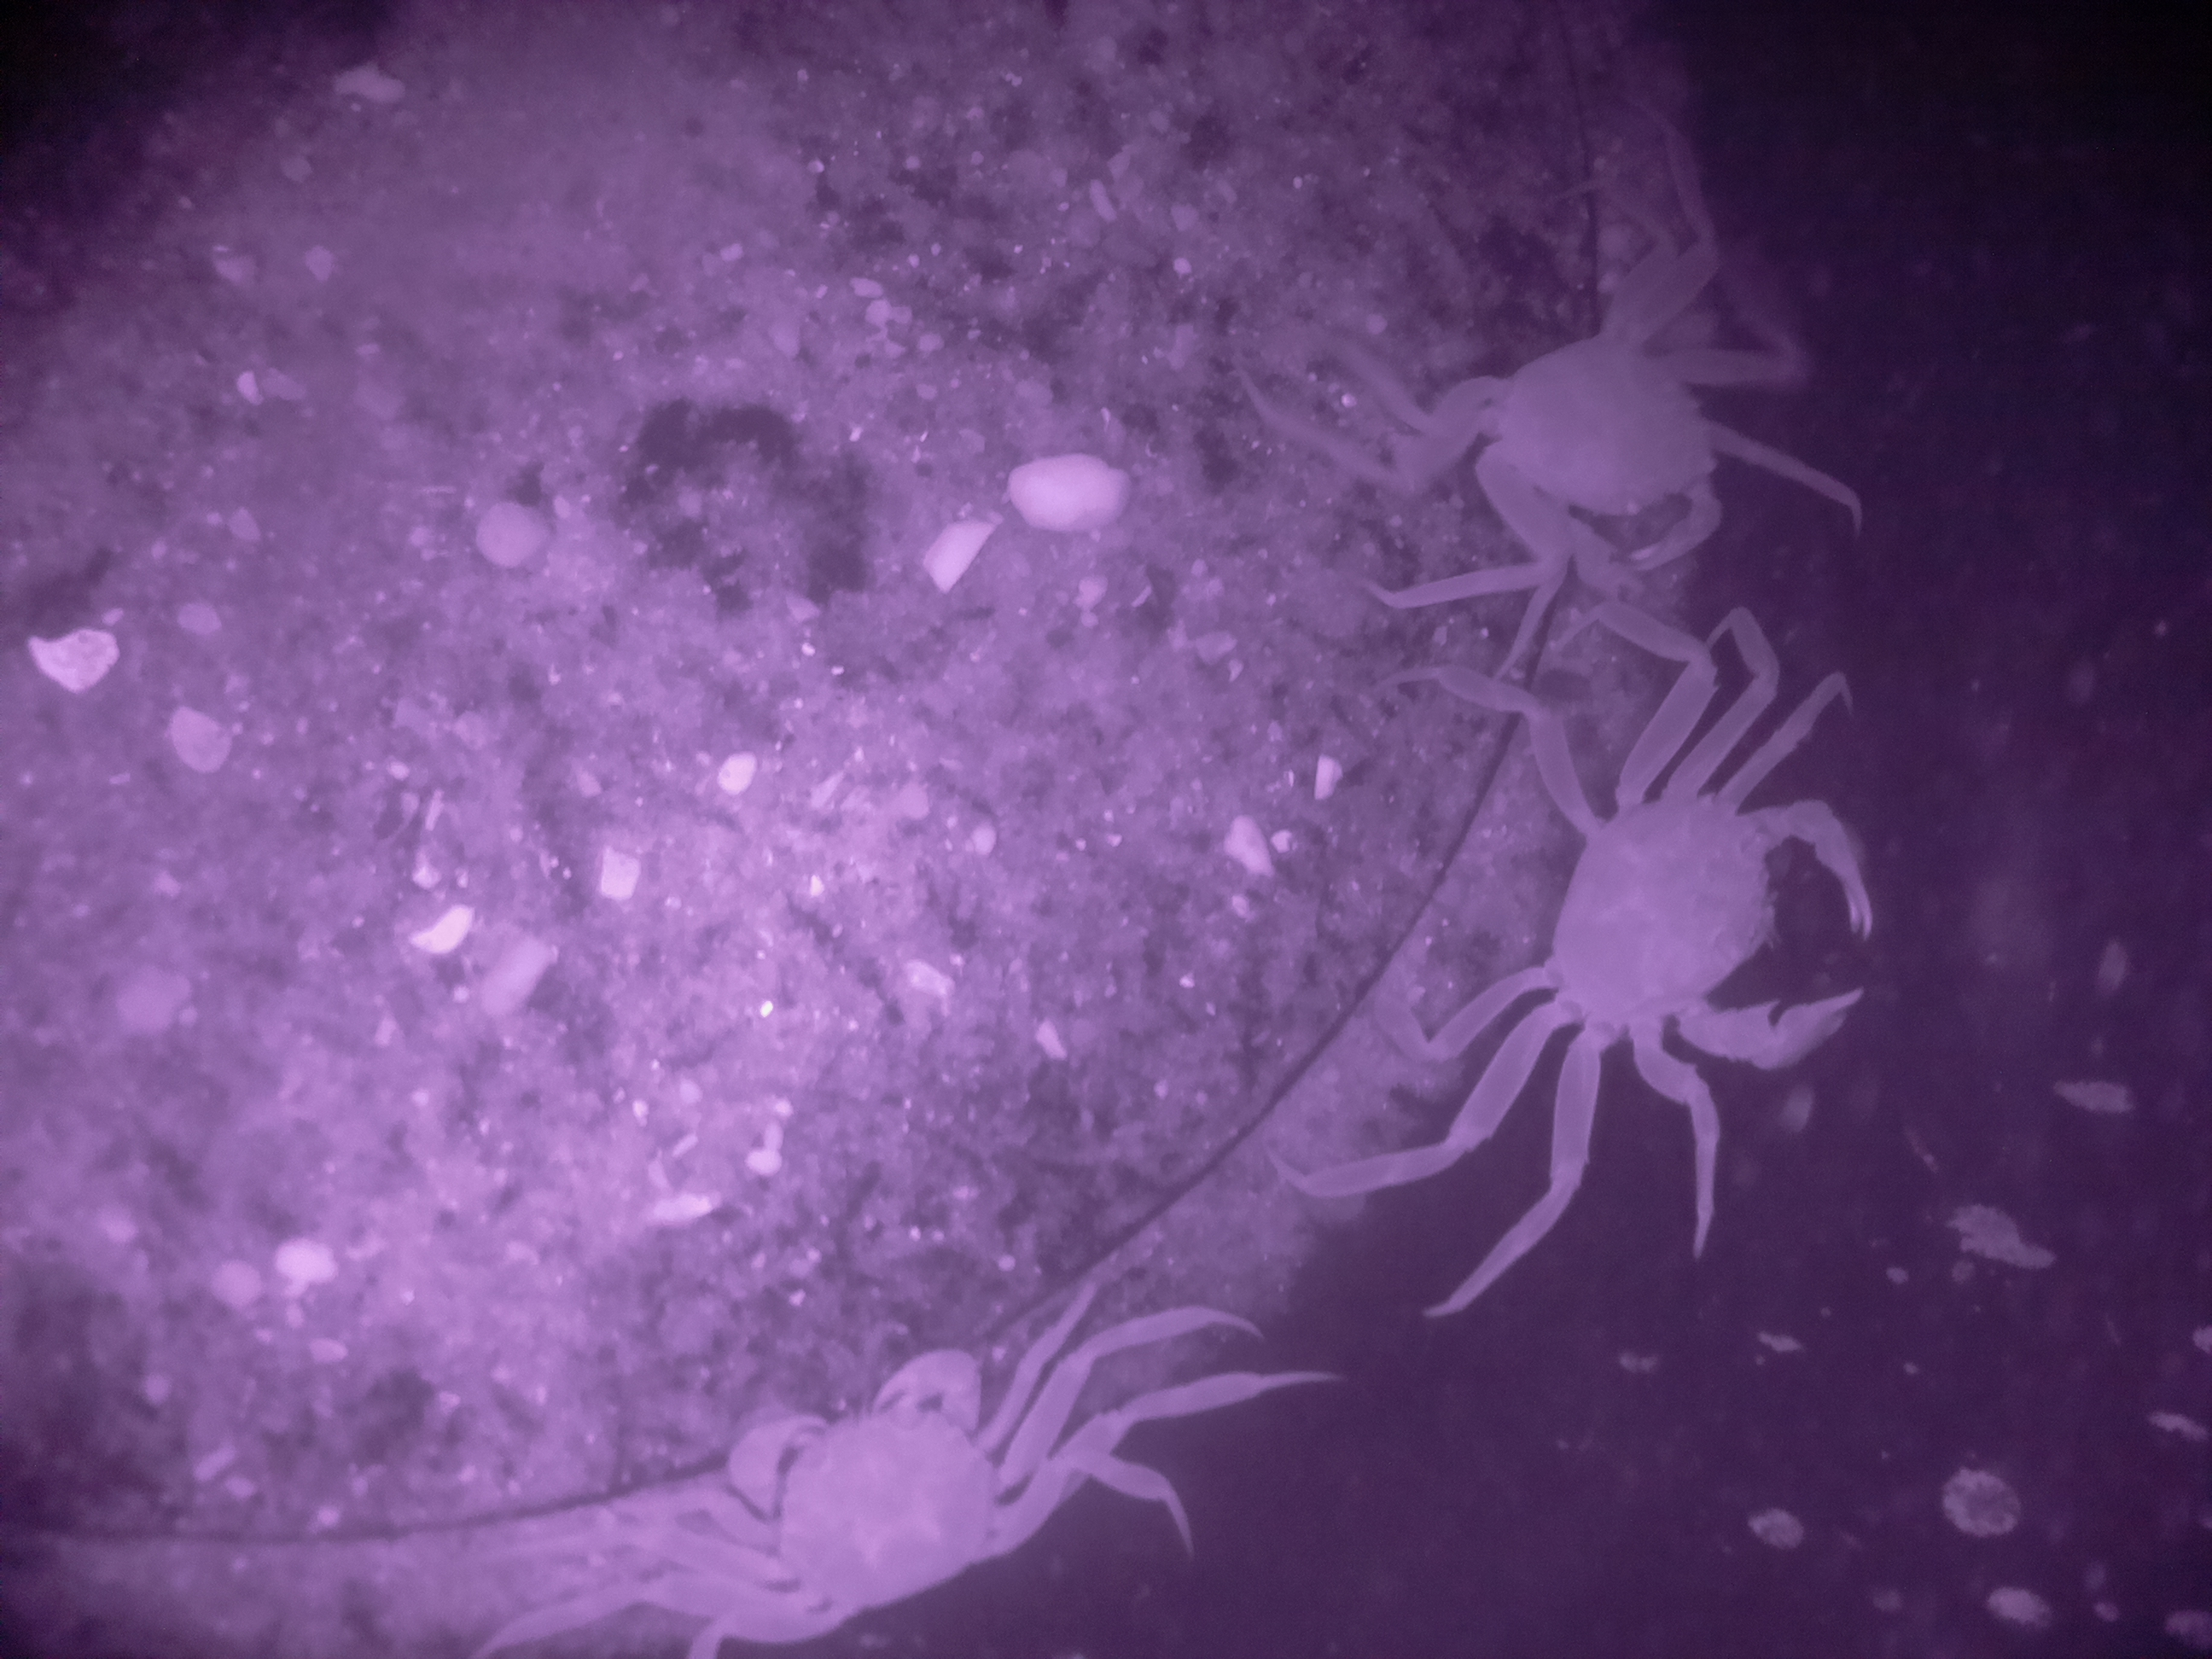Crab: (1432, 713, 1911, 1171), (1355, 221, 1818, 636), (594, 1312, 1094, 1657)
